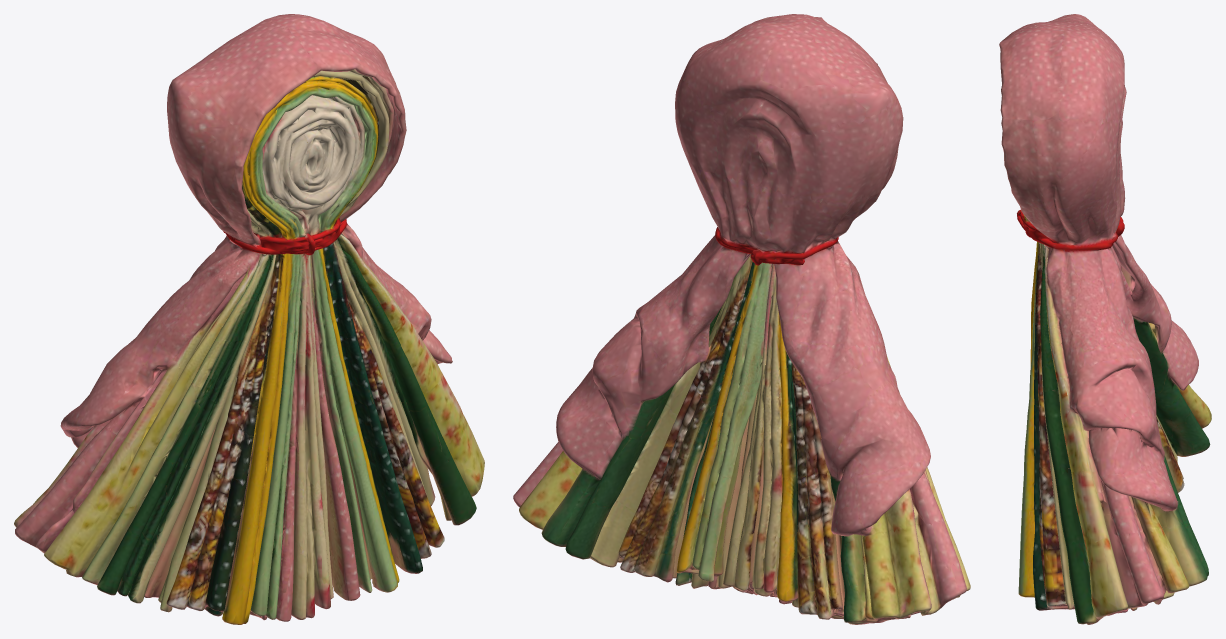
File: belaya-layered-fabric-v2.glb
3 views of the same model, side by side, from view 1: azimuth 30°, elevation 25°; view 2: azimuth 150°, elevation 25°; view 3: azimuth 270°, elevation 25° (orthographic). The views are drawn at different scales.
Visible parts, largest first — view 1: Doll — 10 cm; view 2: Doll — 10 cm; view 3: Doll — 10 cm.
Part boxes in pixels (x1,y1,x2,y2): Doll — 10 cm: [14, 14, 484, 624]; Doll — 10 cm: [513, 14, 970, 624]; Doll — 10 cm: [999, 14, 1211, 624].
Bounding box in the file's own units: 0.082 × 0.1 × 0.0355.
1 material, 1 textured.
